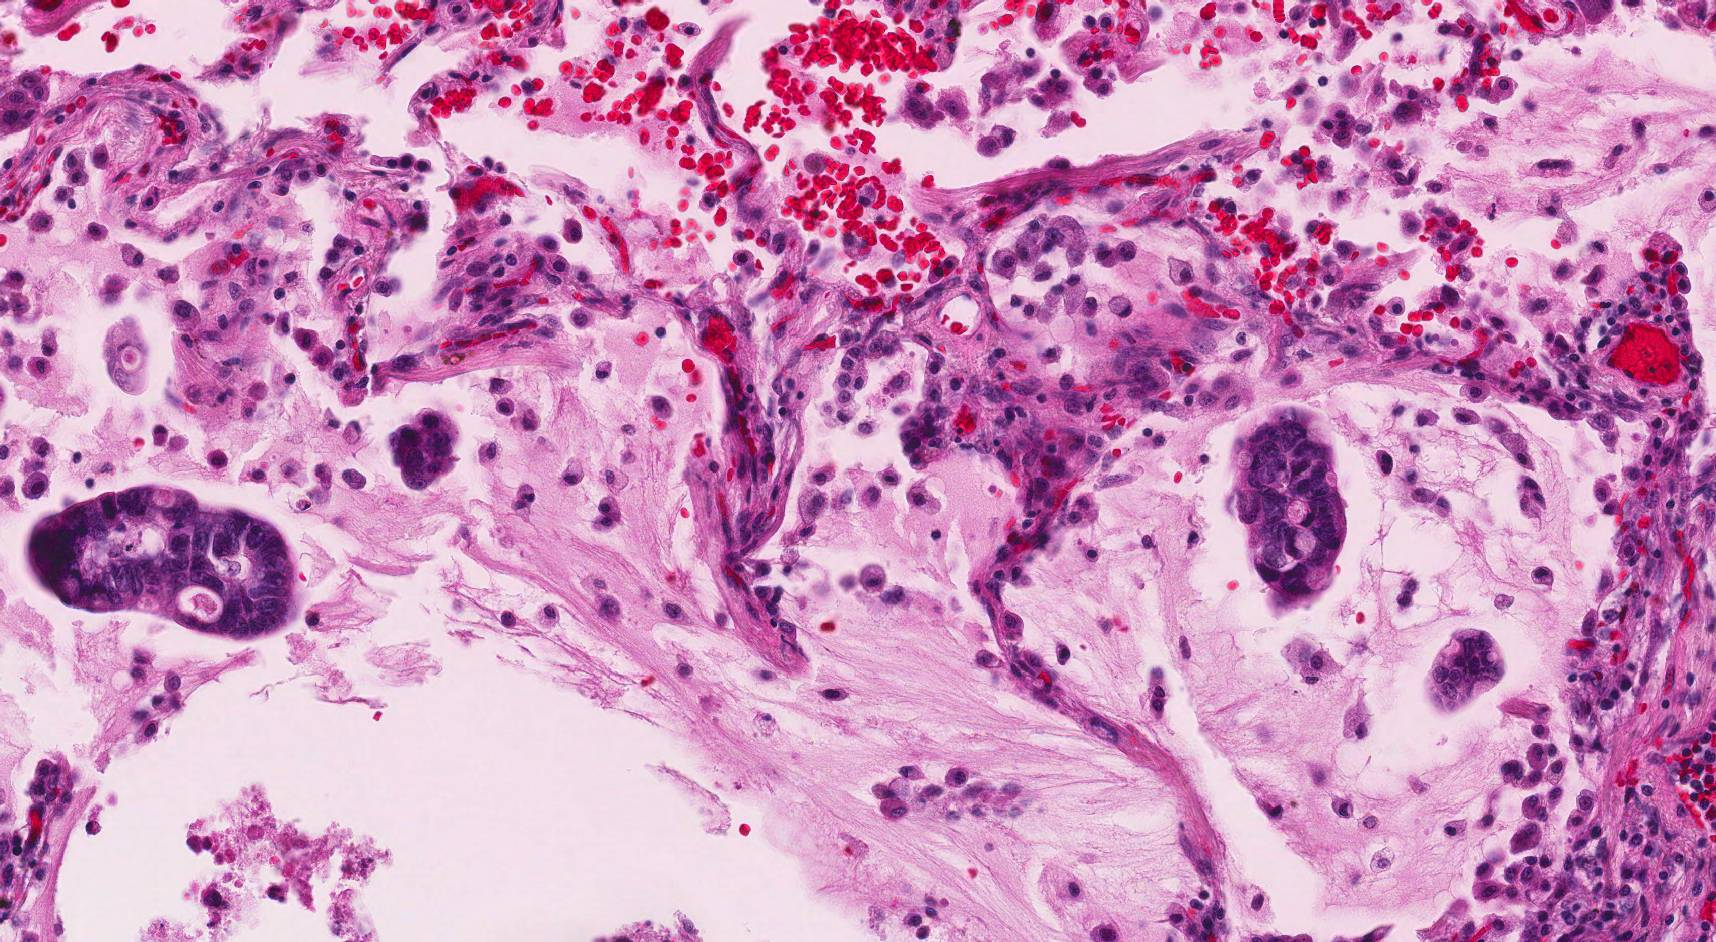stas: (25, 483, 296, 641), (1224, 404, 1349, 615), (1424, 625, 1507, 712), (386, 405, 463, 492)
